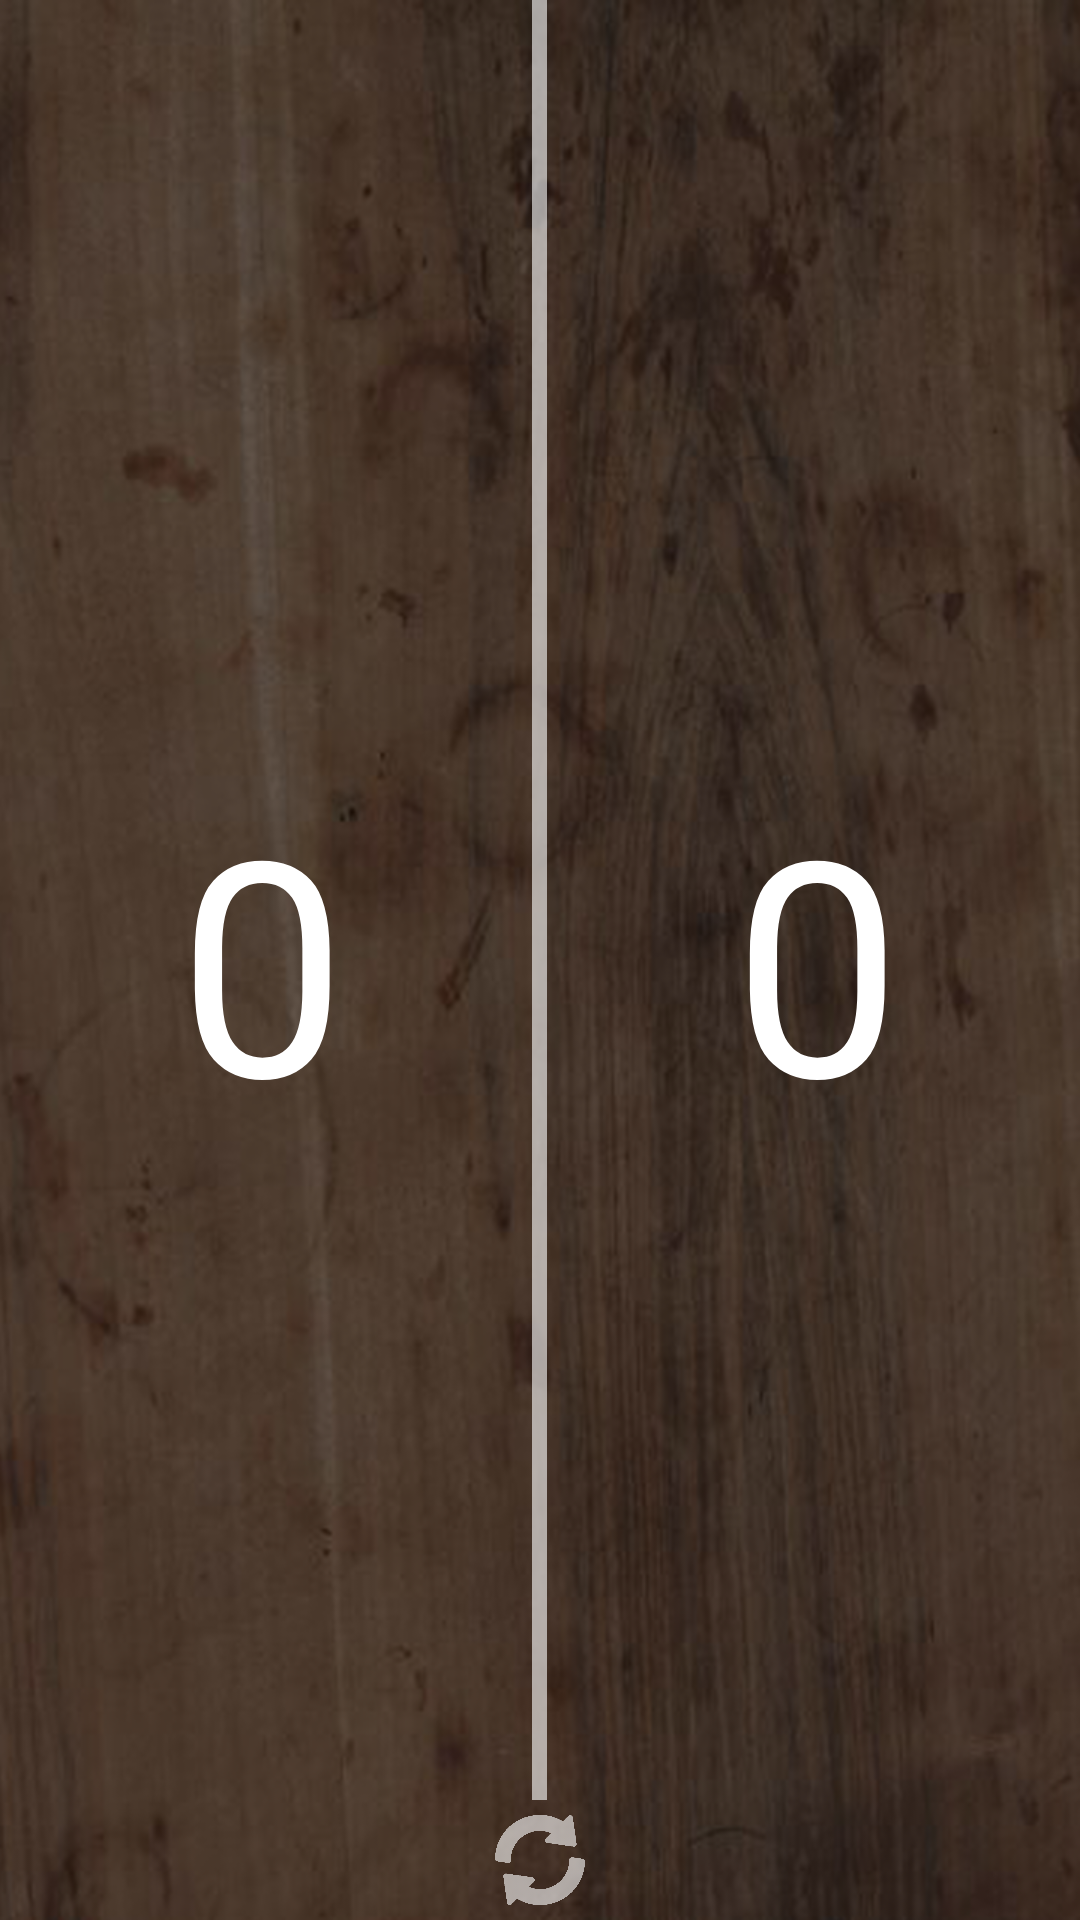

Where to tap for icons on this 1080px x 1920px app screen, as (x=x, y=y):
refresh: (x=540, y=1860)
